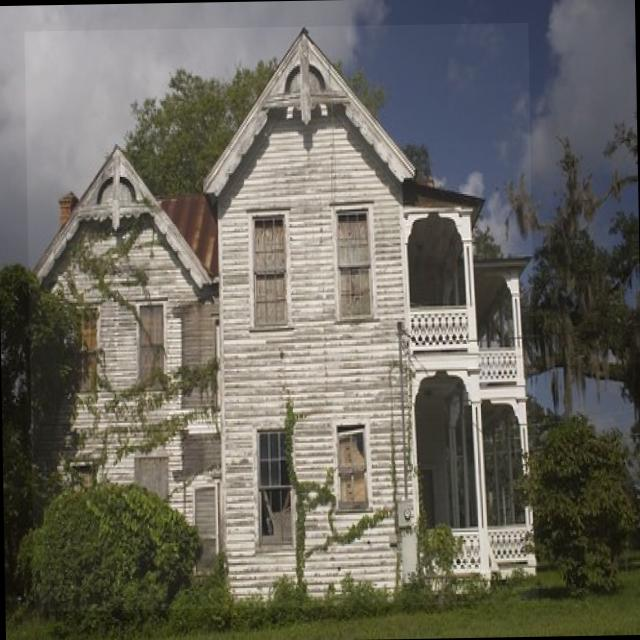House: (24, 22, 538, 610)
